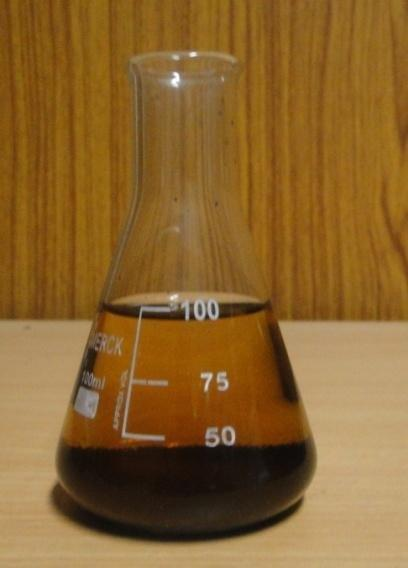Titrarion: (52, 44, 319, 532)
